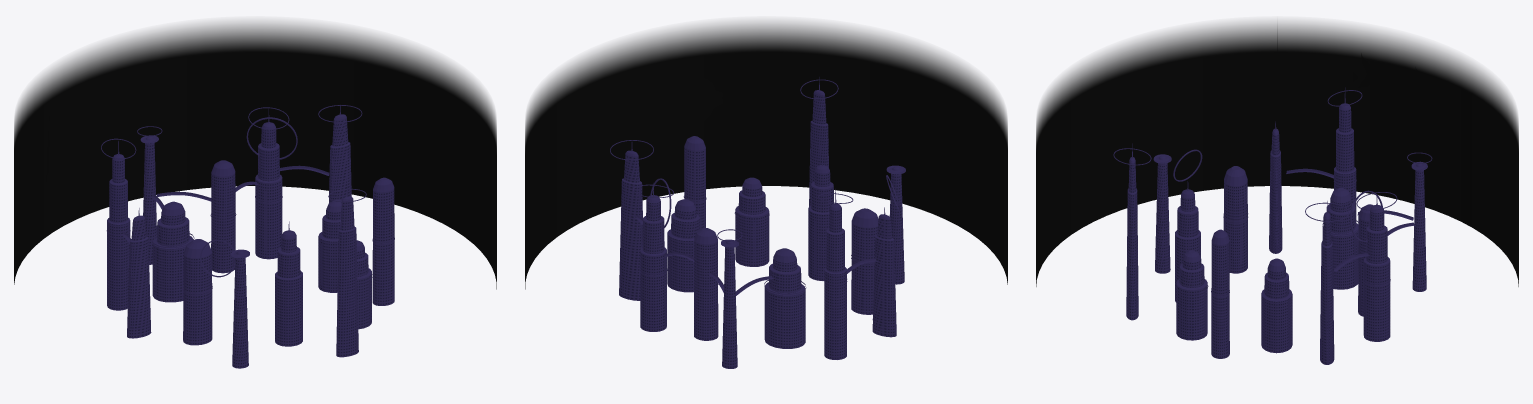
Rendered from env_horizon.glb.
3 views of the same model, side by side, from view 1: azimuth 30°, elevation 25°; view 2: azimuth 150°, elevation 25°; view 3: azimuth 270°, elevation 25° (orthographic).
Visible parts, largest first — view 1: env_skyline_far, env_skyline_mid; view 2: env_skyline_far, env_skyline_mid, env_skyline_koi; view 3: env_skyline_far, env_skyline_mid, env_skyline_koi.
Part boxes in pixels (bbox=[...]): env_skyline_far: bbox=[14, 22, 496, 289]; env_skyline_mid: bbox=[101, 105, 394, 368]; env_skyline_far: bbox=[525, 22, 1007, 289]; env_skyline_mid: bbox=[610, 77, 905, 368]; env_skyline_koi: bbox=[647, 67, 736, 124]; env_skyline_far: bbox=[1036, 20, 1518, 286]; env_skyline_mid: bbox=[1113, 87, 1432, 364]; env_skyline_koi: bbox=[1353, 53, 1421, 103].
Size of the model in its own units: 500 by 216 by 500.
4 materials, 4 textured.
